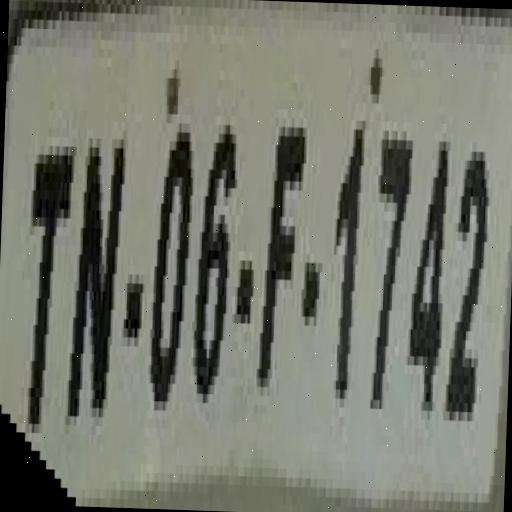number plate: (0, 9, 494, 502)
